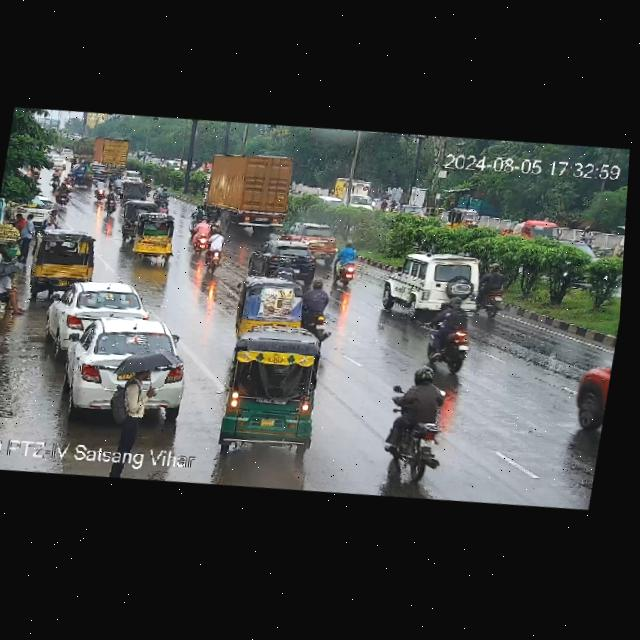car: (216, 326, 334, 454), (68, 315, 195, 420), (43, 277, 146, 358), (385, 248, 486, 314), (29, 230, 103, 281), (251, 236, 323, 285), (240, 277, 305, 330), (128, 211, 177, 261), (532, 237, 604, 271), (576, 364, 611, 427), (287, 220, 339, 258), (120, 197, 159, 234), (444, 204, 483, 232)
motorcycle: (386, 368, 452, 484), (425, 299, 478, 374), (299, 281, 340, 348), (476, 268, 509, 319), (331, 239, 364, 285), (202, 229, 227, 272), (191, 217, 213, 251)
person: (105, 366, 144, 479), (14, 212, 39, 266), (0, 267, 26, 317)
truck: (203, 146, 294, 231), (90, 137, 130, 174)
